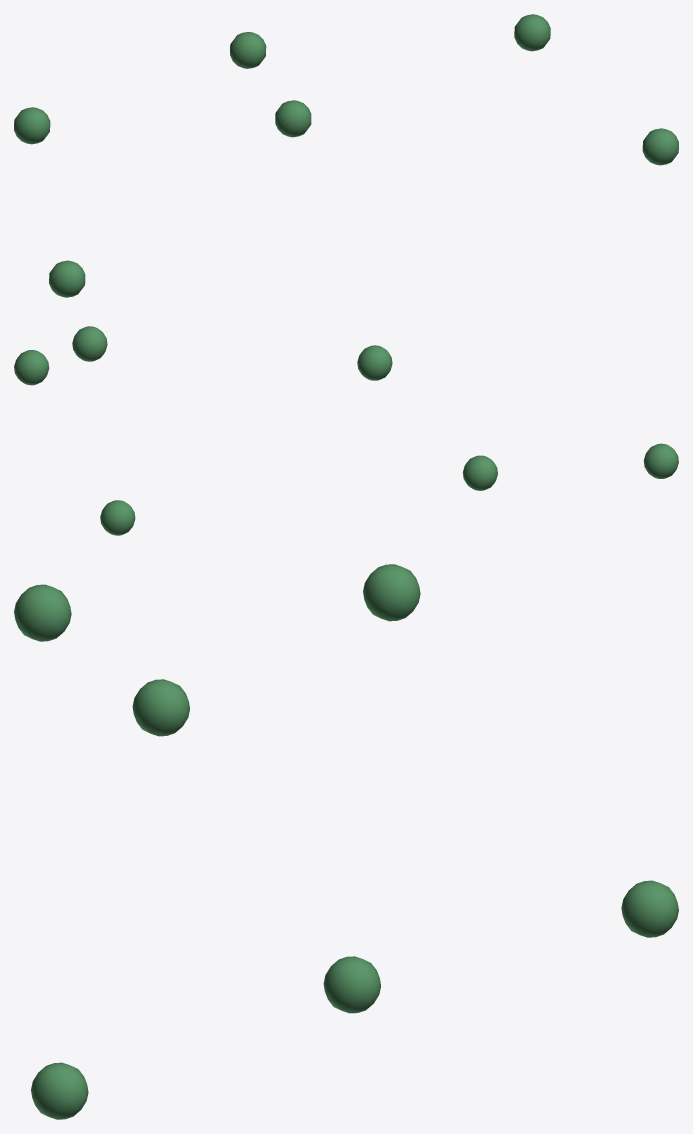
3 views of the same model, one above another, from view 1: azimuth 30°, elevation 25°; view 2: azimuth 150°, elevation 25°; view 3: azimuth 270°, elevation 25° (orthographic). The views are drawn at different scales.
Parts seen in each view (by area): view 1: 膀胱后淋巴结; view 2: 膀胱后淋巴结; view 3: 膀胱后淋巴结.
Part boxes in pixels (box(x1,y1,x2,y2)): 膀胱后淋巴结: box(14, 14, 678, 297); 膀胱后淋巴结: box(14, 326, 678, 535); 膀胱后淋巴结: box(14, 564, 678, 1119).
Size of the model in its own units: 0.0743 by 0.0135 by 0.044.
